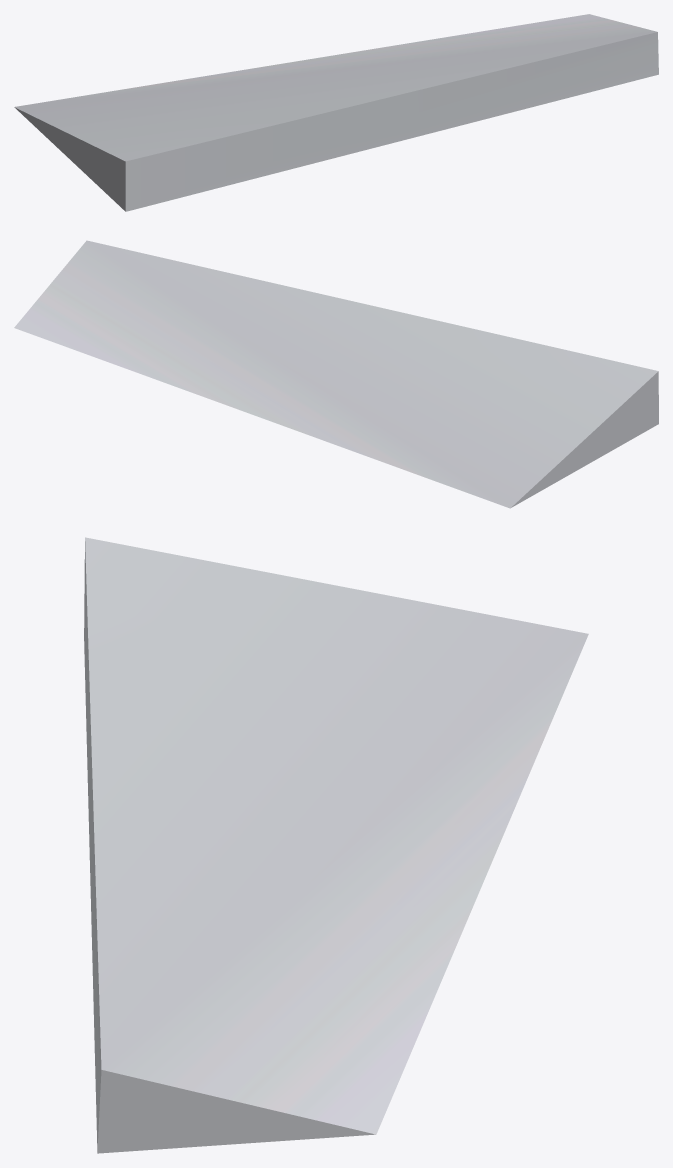
File: LeftAirelone.glb
3 renders of one model, top to bottom at view 1: azimuth 30°, elevation 25°; view 2: azimuth 150°, elevation 25°; view 3: azimuth 270°, elevation 25°, orthographic. The views are drawn at different scales.
Visible parts, largest first — view 1: Left Evelator; view 2: Left Evelator; view 3: Left Evelator.
Boxes of the visible parts, left/top/right/bottom form: Left Evelator: left=14, top=14, right=658, bottom=211; Left Evelator: left=14, top=240, right=658, bottom=508; Left Evelator: left=84, top=537, right=588, bottom=1153.
Size of the model in its own units: 12.94 by 1.16 by 5.27.
Materials: 1 (1 with a texture image).
